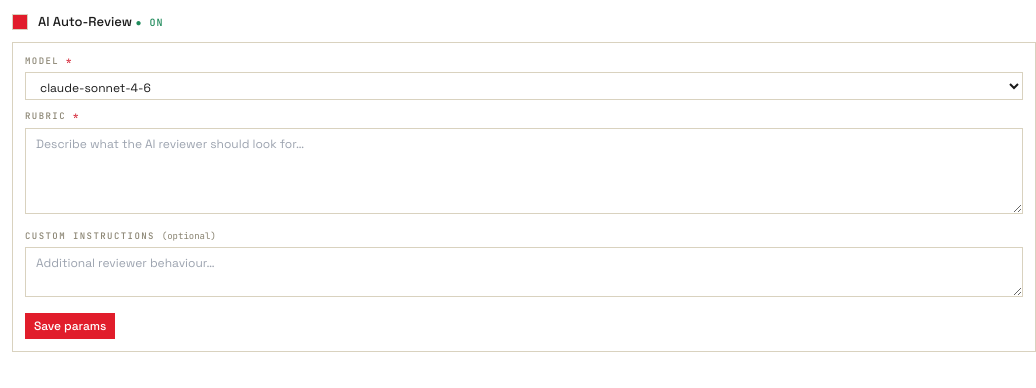
Test: AiReviewToggle › blocks save when rubric is empty
The image size is (1036, 388).
Clear the text box labelled "Rubric *" at (524, 170), box [25, 128, 1023, 214]
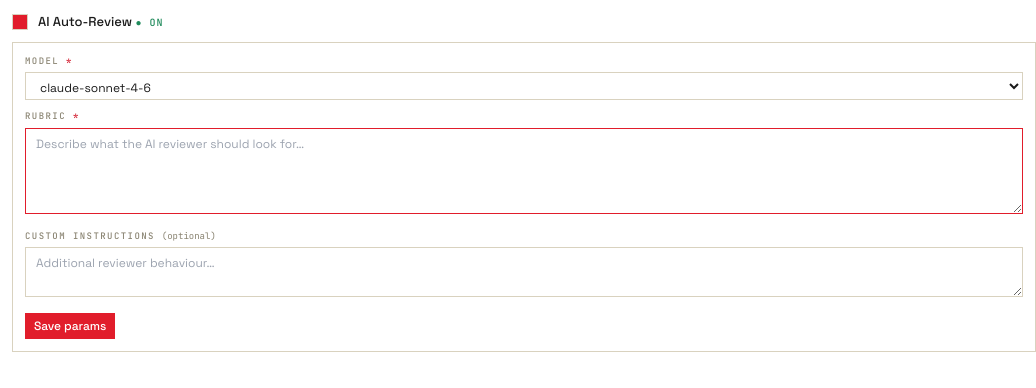
Click the button "Save params" at (70, 326), box [25, 313, 115, 339]
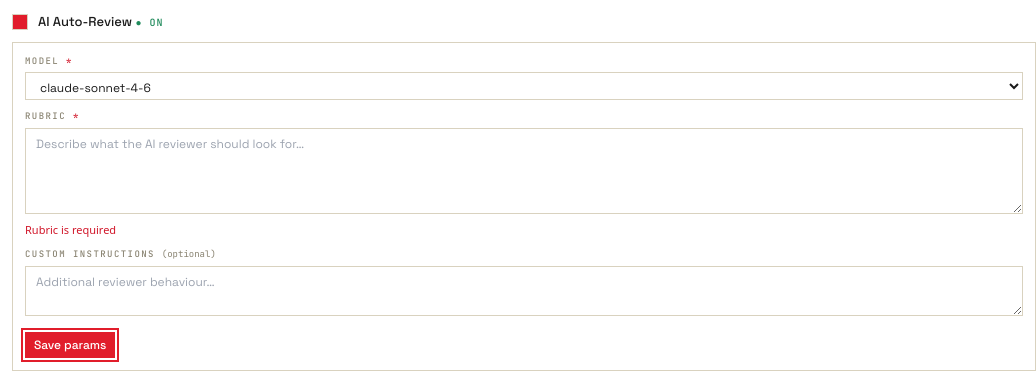
Check: the text "Rubric is required" is shown, box [25, 222, 116, 236]
